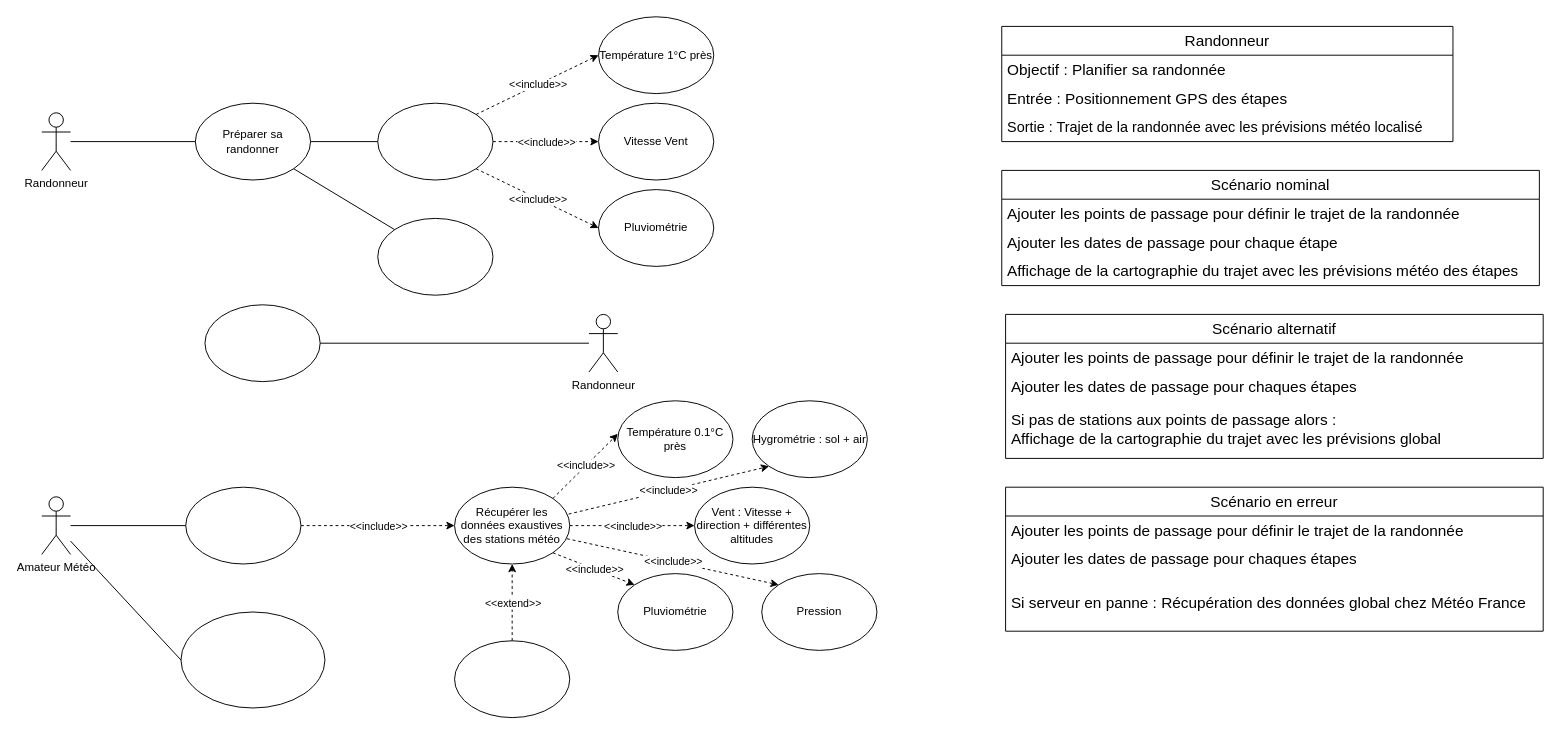
Some shapes in this 1560 by 734 pixel diagram are drawn without their labels. The centre of each missing label's shape, as x and y in pixels:
"Ajouter ses propres données météo" goes at point (512, 679).
"Faire des statistiques" goes at point (243, 525).
"Lire les prévisions succincte avant le départ" goes at point (435, 141).
"Partager ses données météo sur une base de données participative" goes at point (252, 659).
"Positionner les étapes de passage sur une carte" goes at point (435, 256).
"Recevoir les notifications de dégradation de condition" goes at point (262, 343).
